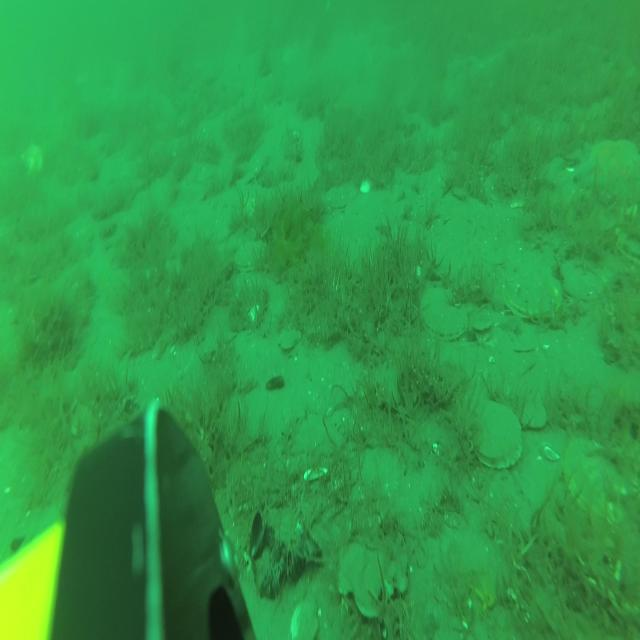scallop: (564, 438, 625, 518), (466, 403, 522, 468), (504, 268, 560, 322), (421, 288, 469, 340), (562, 259, 608, 303), (289, 601, 321, 640), (234, 240, 268, 272), (522, 397, 548, 433), (326, 183, 356, 212), (20, 142, 42, 177), (617, 232, 640, 264), (473, 309, 494, 341)
starfish: (575, 139, 640, 192), (278, 327, 302, 351)
